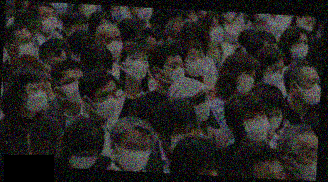with_mask: (117, 138, 153, 171), (243, 108, 273, 142), (22, 82, 49, 113), (170, 125, 198, 152), (298, 76, 322, 107), (126, 51, 149, 81), (97, 86, 117, 120), (70, 147, 101, 168), (191, 91, 212, 122), (63, 73, 85, 102), (186, 50, 207, 78), (301, 144, 317, 180), (15, 32, 37, 57), (263, 62, 285, 86), (103, 33, 124, 58), (39, 9, 59, 35), (290, 36, 310, 62), (265, 108, 284, 135), (167, 59, 187, 84), (237, 69, 257, 94), (207, 20, 226, 44), (46, 58, 65, 81), (298, 17, 316, 33)
without_mask: (169, 16, 185, 33)
